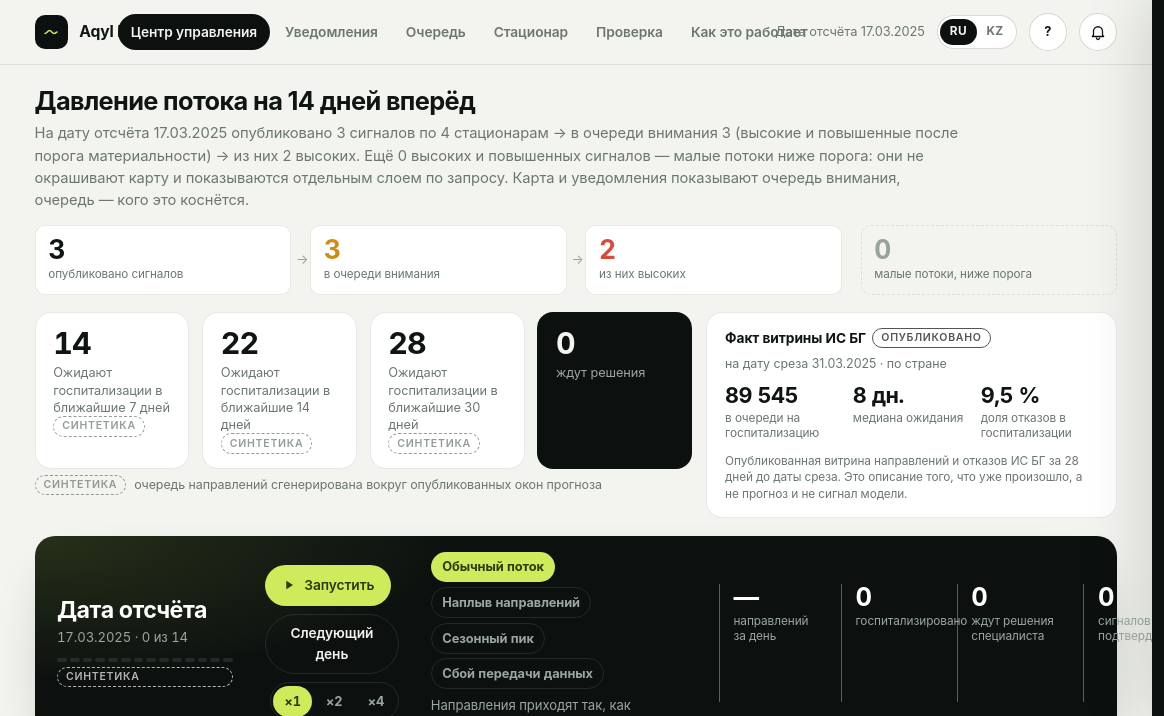
Control centre › switches to Kazakh and back without losing the page
The width and height of the screenshot is (1164, 716).
Click the button "KZ" at (995, 32), box top-left (977, 19), bottom-right (1013, 45)
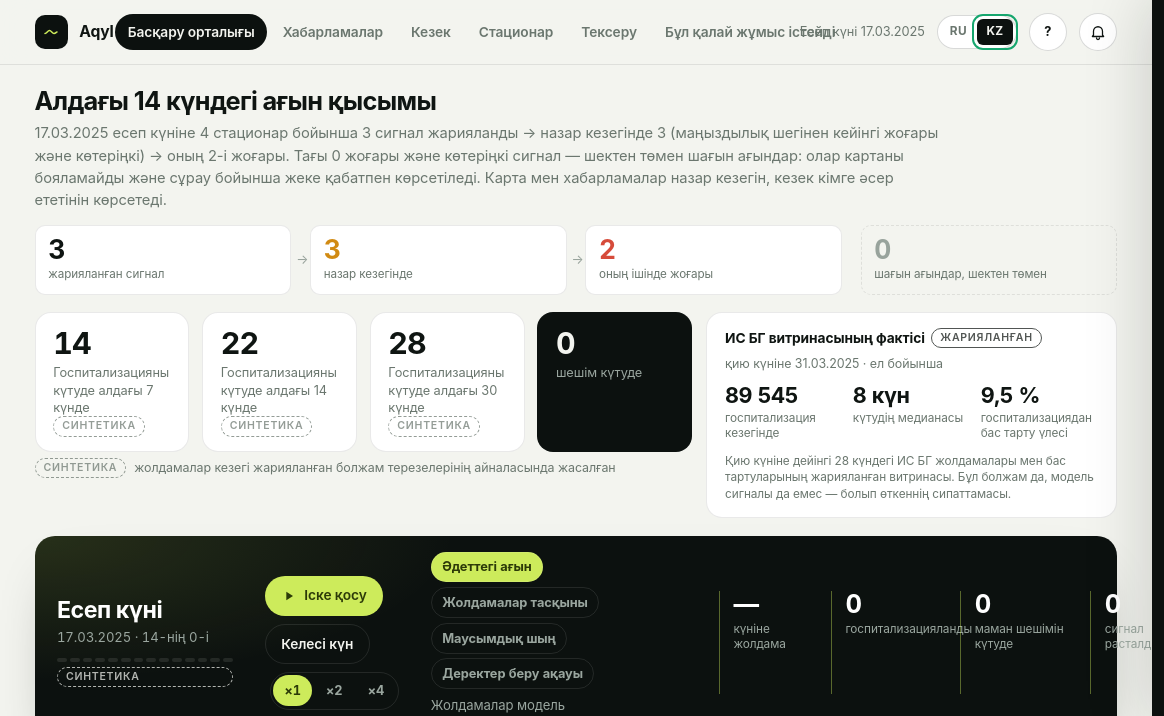
Now the heading "Алдағы 14 күндегі ағын қысымы" is shown, box top-left (34, 85), bottom-right (436, 116)
Now the link "Хабарламалар" is shown, box top-left (283, 24), bottom-right (383, 40)
Click the button "RU" at (958, 32), box top-left (940, 19), bottom-right (977, 45)
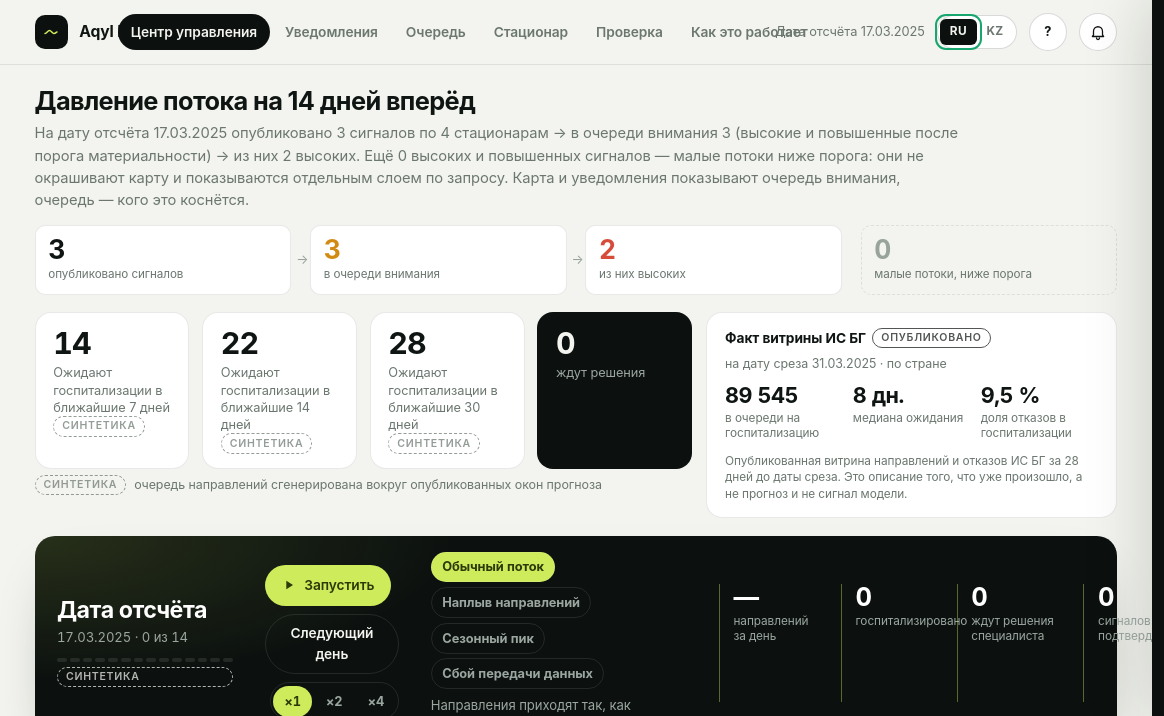
Now the heading "Давление потока на 14 дней вперёд" is shown, box top-left (34, 85), bottom-right (475, 116)
